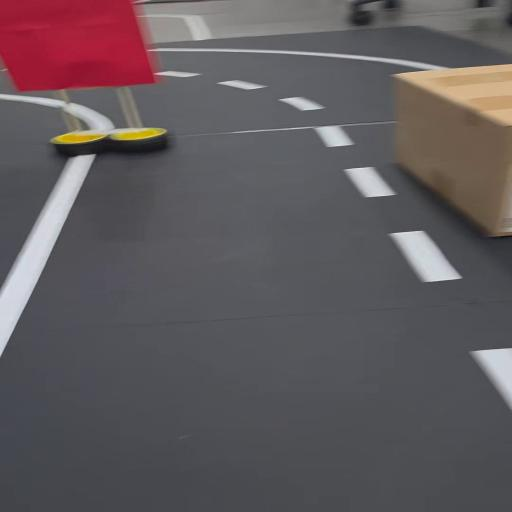Box: (379, 59, 512, 243)
Sign_A: (0, 0, 186, 158)
